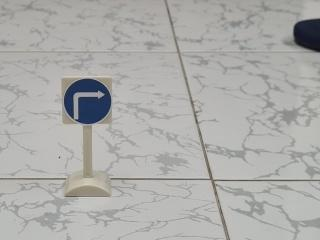right: (57, 70, 119, 131)
